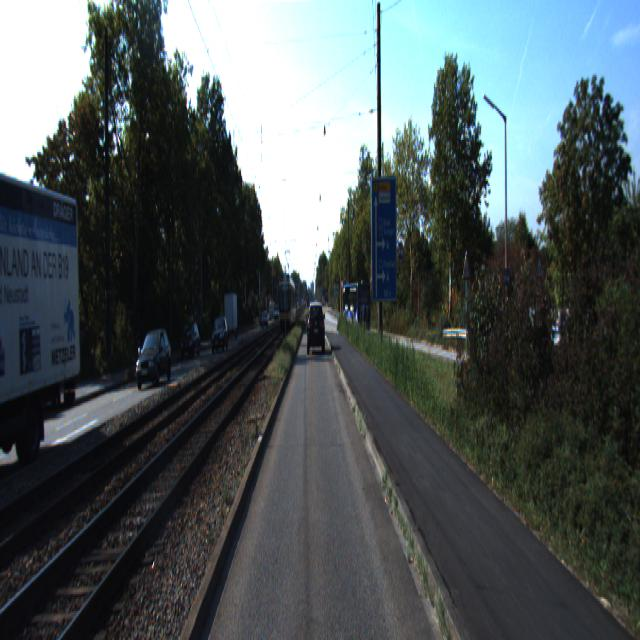Car: (134, 325, 173, 390), (342, 282, 372, 336), (308, 304, 324, 356), (210, 315, 230, 354), (181, 323, 201, 360), (223, 292, 238, 340)
